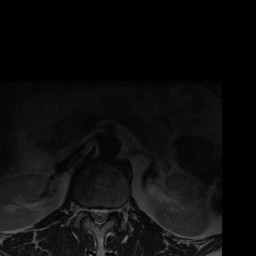CCS_normal: (96, 203, 102, 232)
LFS_severe_stenosis: (110, 201, 117, 218)
LLS_normal: (103, 203, 109, 226)
RFS_severe_stenosis: (83, 200, 90, 219)
RLS_normal: (89, 202, 96, 225)
